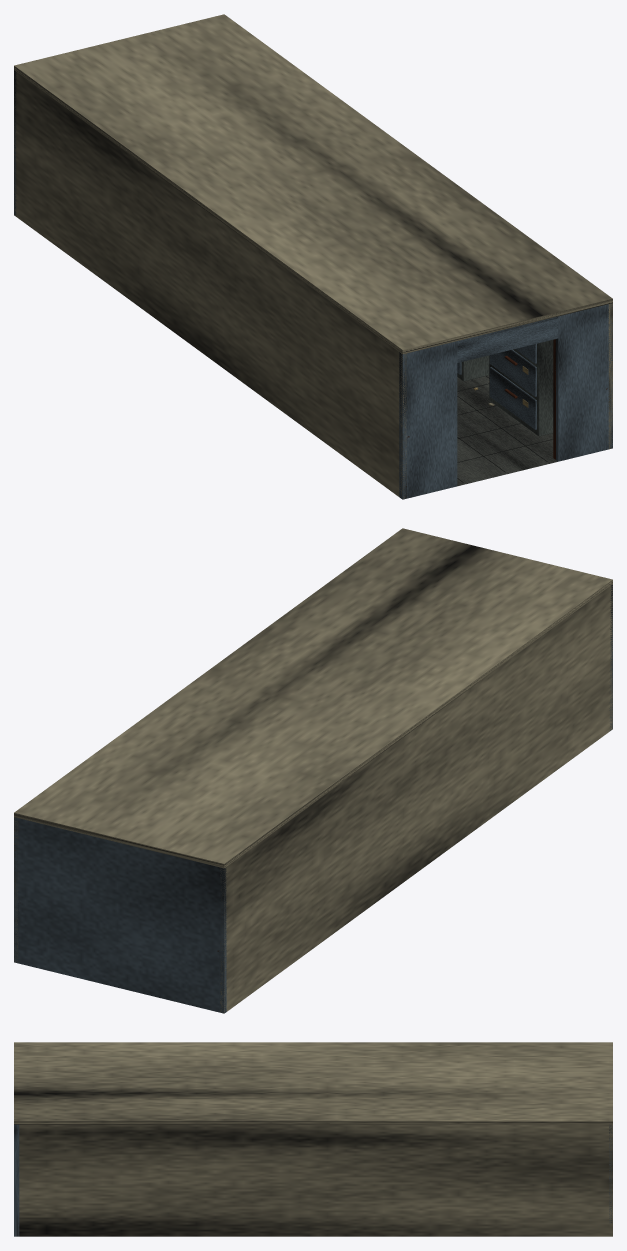
Rendered from cold-store.glb.
3 renders of one model, top to bottom at view 1: azimuth 30°, elevation 25°; view 2: azimuth 150°, elevation 25°; view 3: azimuth 270°, elevation 25°, orthographic. The views are drawn at different scales.
Parts seen in each view (by area): view 1: static-plaster, static-paint, static-stone, static-metal; view 2: static-plaster, static-paint; view 3: static-plaster, static-paint.
Part boxes in pixels (<box>): static-plaster: <box>14,14,612,499</box>; static-paint: <box>14,70,612,499</box>; static-stone: <box>457,375,557,486</box>; static-metal: <box>457,340,553,436</box>; static-plaster: <box>14,528,612,1013</box>; static-paint: <box>14,584,612,1013</box>; static-plaster: <box>14,1042,612,1236</box>; static-paint: <box>14,1124,612,1236</box>.
Size of the model in its own units: 5 by 3.4 by 16.
Materials: 13 (9 with a texture image).
